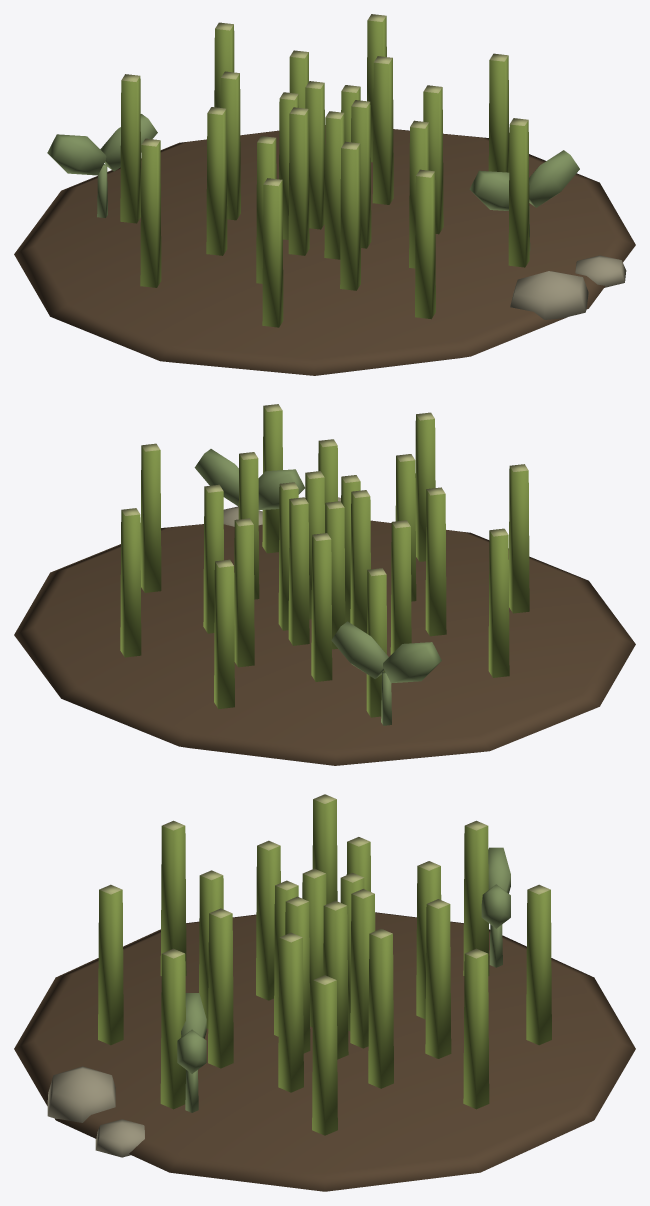
File: reed_bank_gathered.glb
The picture shows the model from 3 angles, top to bottom: view 1: azimuth 30°, elevation 25°; view 2: azimuth 150°, elevation 25°; view 3: azimuth 270°, elevation 25°; orthographic projection. The views are drawn at different scales.
Visible parts, largest first — view 1: reed_bank_gathered; view 2: reed_bank_gathered; view 3: reed_bank_gathered.
Boxes of the visible parts, box(x1,y1,x2,y2) form: reed_bank_gathered: box(14, 14, 635, 375); reed_bank_gathered: box(14, 404, 635, 765); reed_bank_gathered: box(14, 794, 635, 1191).
Bounding box in the file's own units: 1.2 × 0.33 × 1.1.
